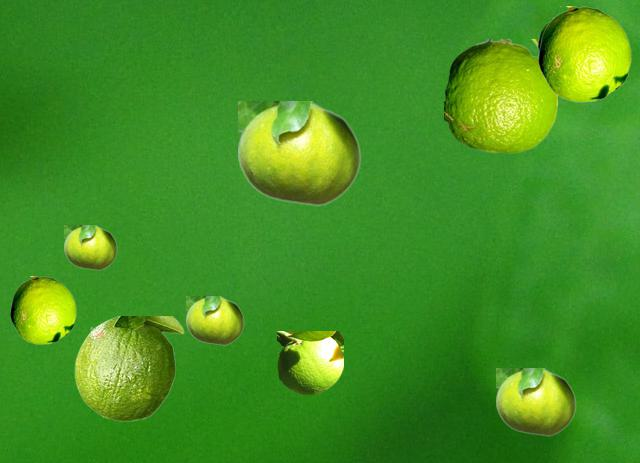dalandan: (238, 101, 360, 205), (444, 39, 556, 152), (74, 316, 183, 420), (538, 6, 630, 101), (496, 368, 575, 435), (10, 276, 75, 343), (277, 331, 342, 393), (186, 296, 243, 344), (64, 225, 116, 269)
